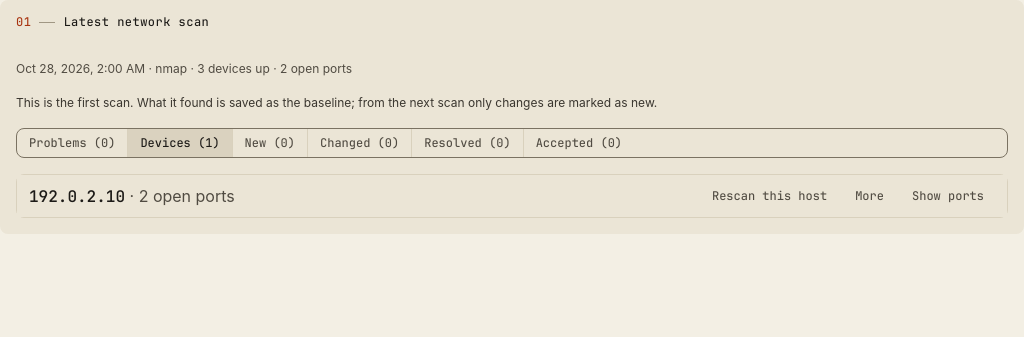
Test: FindingsReport grouped problems › Advanced: a device with nothing to look at is folded behind "Show ports", and opens on demand
The image size is (1024, 337).
Expected: the element named "192.0.2.10" shows "2 open ports", [130, 186, 235, 206]
Click the button with test id "toggle-device" at (948, 196), box [901, 183, 995, 209]
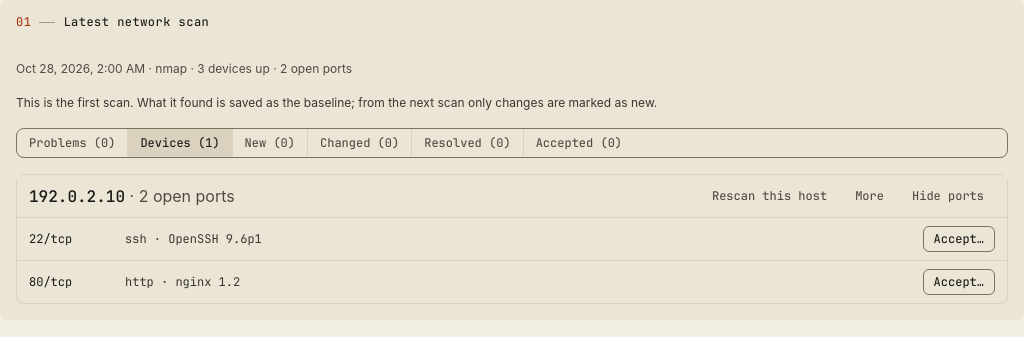
Expected: the list item "22/tcp ssh · OpenSSH 9.6p1 Accept…" is shown, [17, 217, 1007, 260]
Expected: the button with test id "toggle-device" reads "Hide ports", [901, 183, 995, 209]
